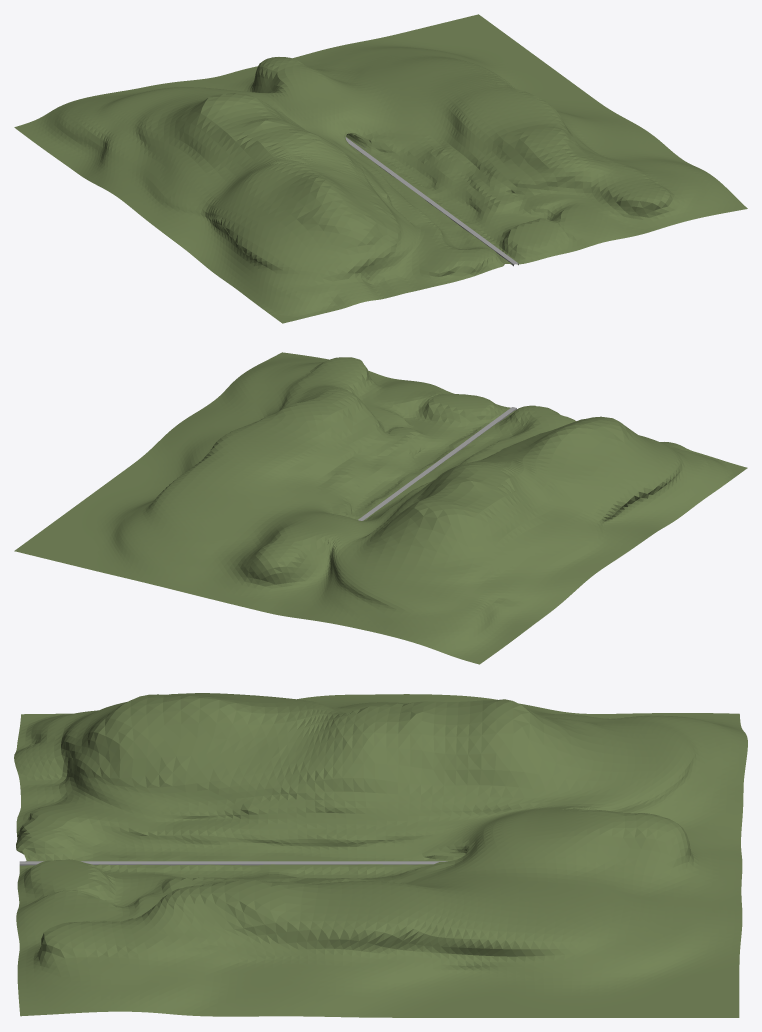
File: mountain.fbx
3 renders of one model, top to bottom at view 1: azimuth 30°, elevation 25°; view 2: azimuth 150°, elevation 25°; view 3: azimuth 270°, elevation 25°, orthographic. The views are drawn at different scales.
Parts seen in each view (by area): view 1: mountain_Baked_Baked; view 2: mountain_Baked_Baked; view 3: mountain_Baked_Baked.
Boxes of the visible parts, bbox=[...] form: mountain_Baked_Baked: bbox=[14, 14, 747, 323]; mountain_Baked_Baked: bbox=[14, 352, 747, 664]; mountain_Baked_Baked: bbox=[14, 693, 747, 1017].
Size of the model in its own units: 51223 by 6555 by 51106.
